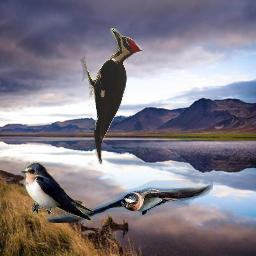Swallow: (46, 180, 213, 223), (20, 161, 94, 223)
Woodpecker: (80, 28, 142, 164)
